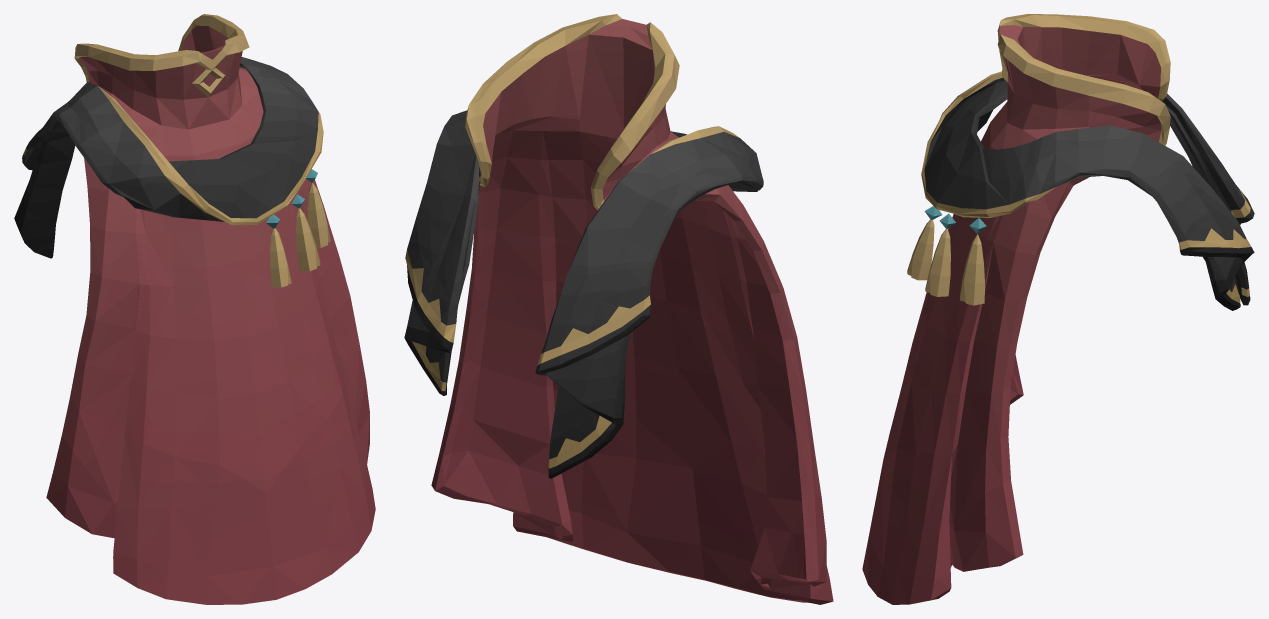
File: NPC_AP21KingCloak.glb
3 renders of one model, left to right at view 1: azimuth 30°, elevation 25°; view 2: azimuth 150°, elevation 25°; view 3: azimuth 270°, elevation 25°, orthographic. The views are drawn at different scales.
Visible parts, largest first — view 1: NPC_AP21KingCloak; view 2: NPC_AP21KingCloak; view 3: NPC_AP21KingCloak.
Boxes of the visible parts, x1,y1,x2,y2 form: NPC_AP21KingCloak: [14, 14, 375, 604]; NPC_AP21KingCloak: [404, 14, 833, 604]; NPC_AP21KingCloak: [862, 14, 1254, 604].
Size of the model in its own units: 6.31 by 9.59 by 6.29.
1 material, 1 textured.
